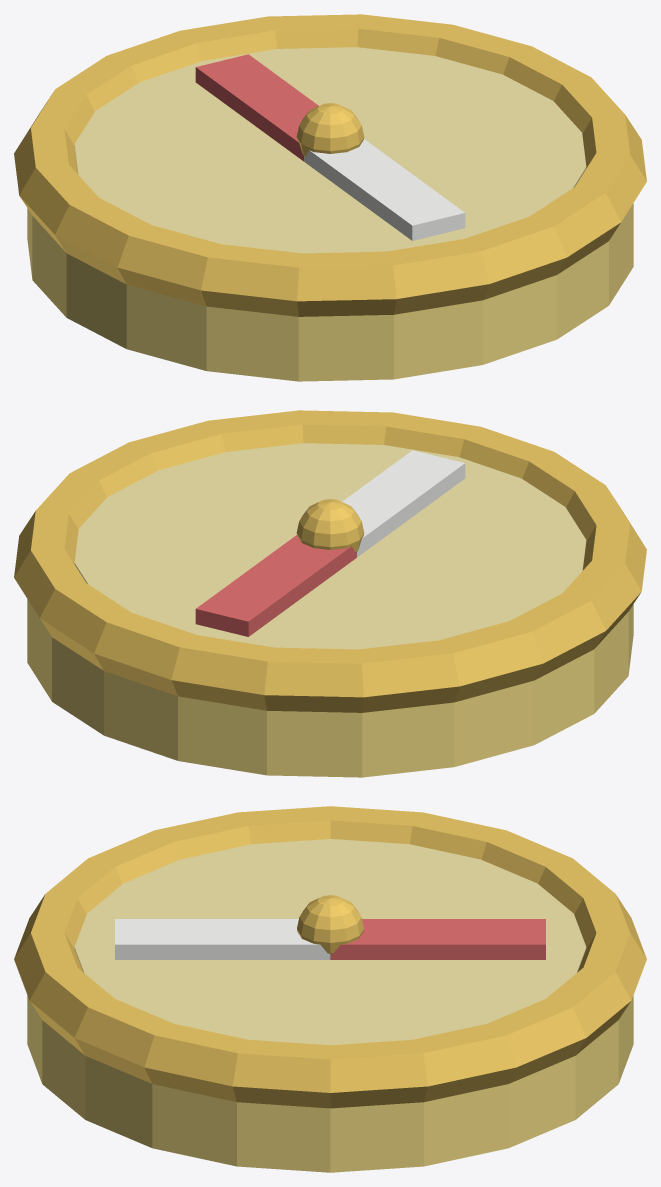
Rendered from compass_in_held.gltf.
3 views of the same model, one above another, from view 1: azimuth 30°, elevation 25°; view 2: azimuth 150°, elevation 25°; view 3: azimuth 270°, elevation 25° (orthographic).
Parts seen in each view (by area): view 1: backrooms_compass_in_held; view 2: backrooms_compass_in_held; view 3: backrooms_compass_in_held.
Part boxes in pixels (bbox=[...]): backrooms_compass_in_held: bbox=[14, 14, 646, 381]; backrooms_compass_in_held: bbox=[14, 410, 646, 777]; backrooms_compass_in_held: bbox=[14, 806, 646, 1172].
Size of the model in its own units: 0.094 by 0.024 by 0.094.
